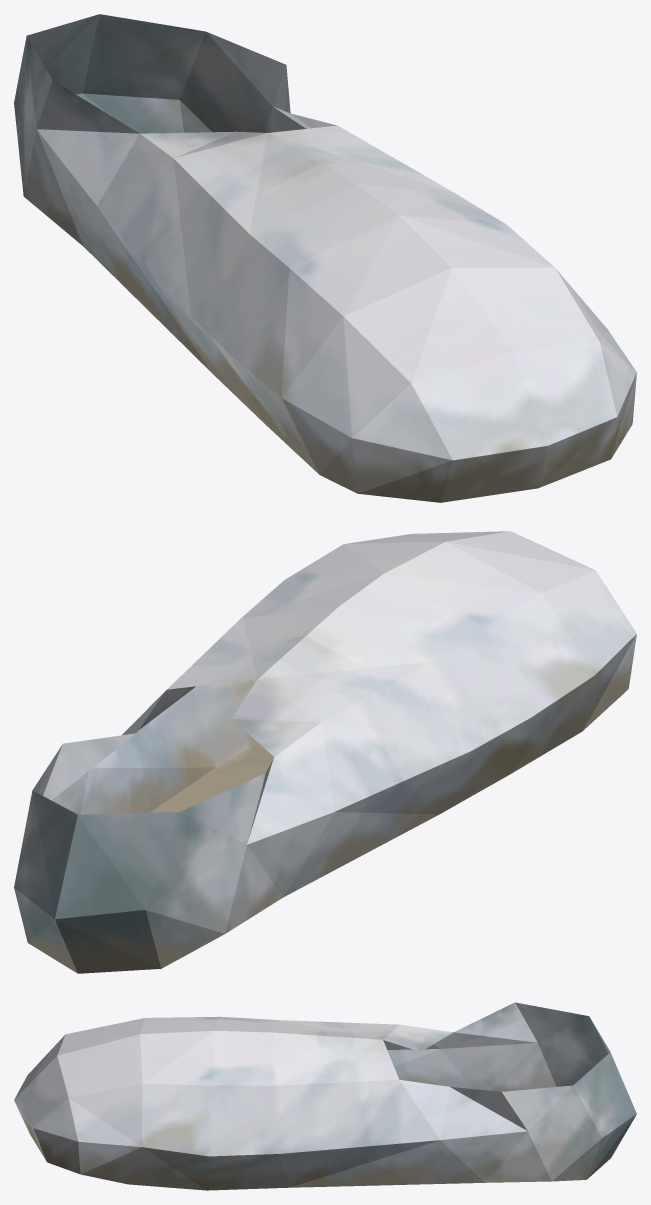
File: Pata2_Trasera_Der.obj
3 renders of one model, top to bottom at view 1: azimuth 30°, elevation 25°; view 2: azimuth 150°, elevation 25°; view 3: azimuth 270°, elevation 25°, orthographic. The views are drawn at different scales.
Parts seen in each view (by area): view 1: Pata2_Trasera_Der; view 2: Pata2_Trasera_Der; view 3: Pata2_Trasera_Der.
Part boxes in pixels (left/top/right/bottom): Pata2_Trasera_Der: left=14, top=14, right=636, bottom=502; Pata2_Trasera_Der: left=14, top=531, right=636, bottom=973; Pata2_Trasera_Der: left=14, top=1002, right=636, bottom=1190.
Bounding box in the file's own units: 0.0408 × 0.0241 × 0.106.
Materials: 1 (1 with a texture image).
